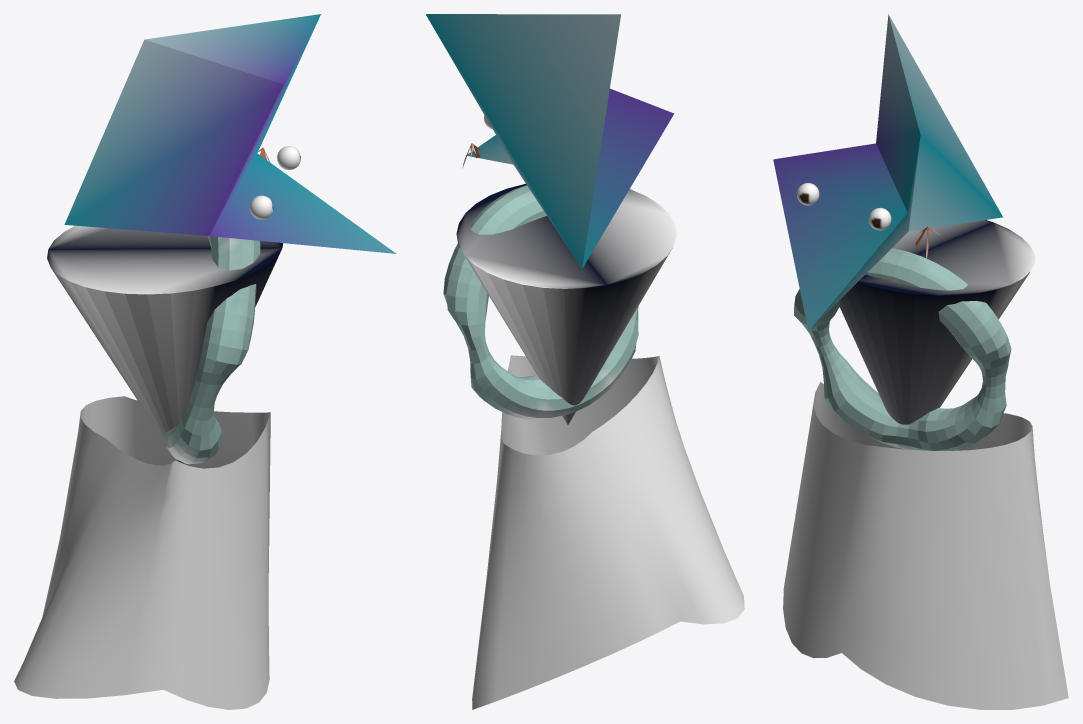
Rendered from lilbromoves2.glb.
3 views of the same model, side by side, from view 1: azimuth 30°, elevation 25°; view 2: azimuth 150°, elevation 25°; view 3: azimuth 270°, elevation 25° (orthographic). The views are drawn at different scales.
Visible parts, largest first — view 1: SurfCylinder, Cube, Cone, Torus; view 2: SurfCylinder, Cube, Cone, Torus; view 3: SurfCylinder, Cube, Cone, Torus.
Boxes of the visible parts, <box> form: SurfCylinder: <box>14,396,270,709</box>; Cube: <box>64,14,396,253</box>; Cone: <box>47,225,282,463</box>; Torus: <box>163,236,260,464</box>; SurfCylinder: <box>472,355,744,709</box>; Cube: <box>425,14,674,268</box>; Cone: <box>456,183,676,424</box>; Torus: <box>443,185,638,419</box>; SurfCylinder: <box>783,382,1068,709</box>; Cube: <box>773,14,1002,330</box>; Cone: <box>839,220,1034,424</box>; Torus: <box>794,248,1011,450</box>.
Bounding box in the file's own units: 3.28 × 6.51 × 2.66.
